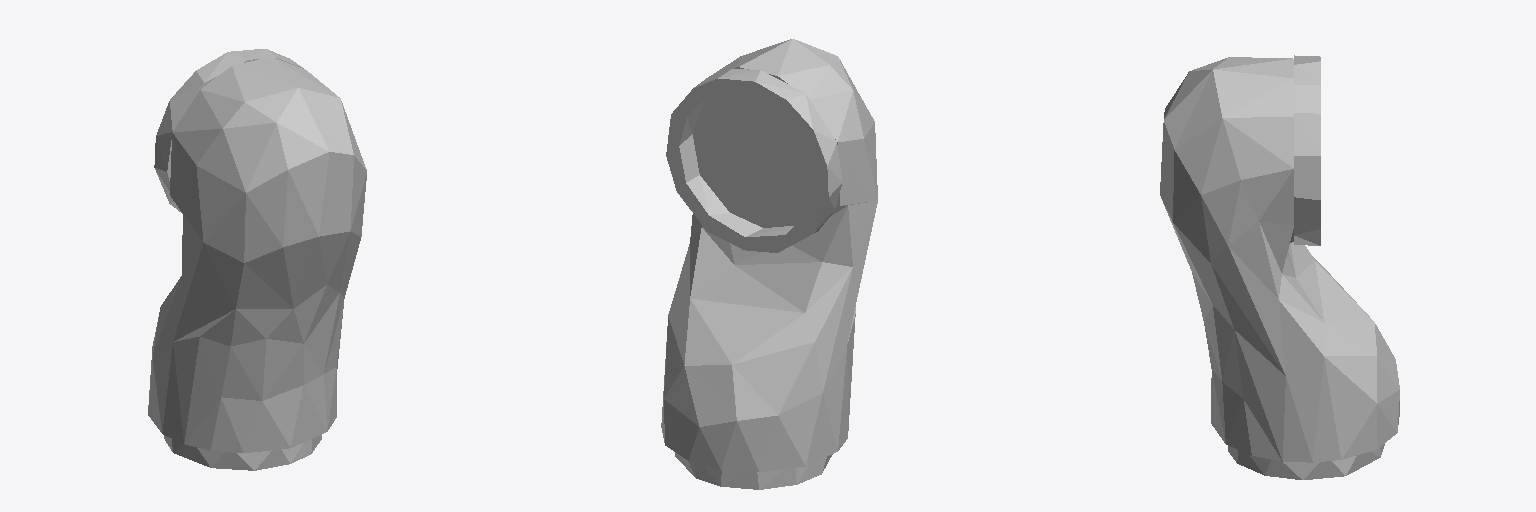
The model's file is col-kuka-link1.obj.
3 views of the same model, side by side, from view 1: azimuth 30°, elevation 25°; view 2: azimuth 150°, elevation 25°; view 3: azimuth 270°, elevation 25° (orthographic).
Size of the model in its own units: 120 by 269 by 153.